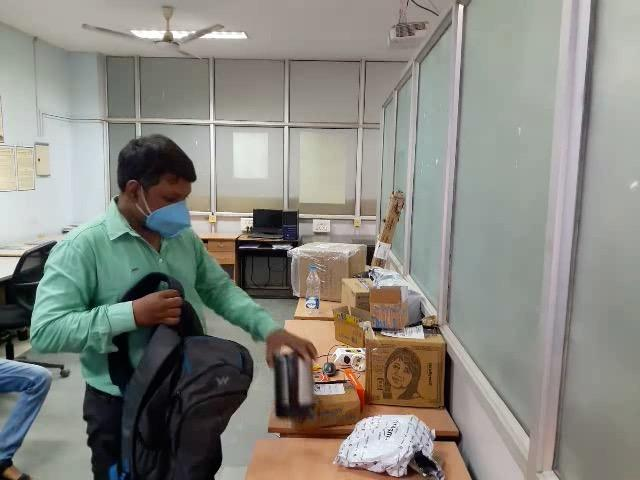shoplifting: (36, 267, 323, 480)
